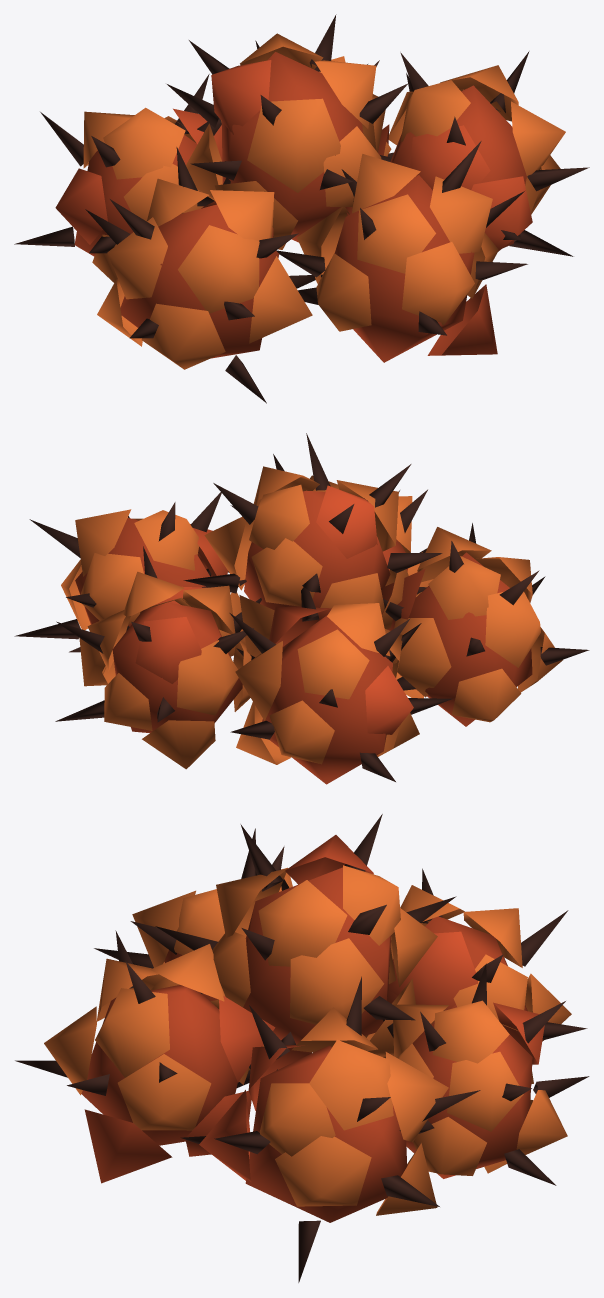
File: tumpukan_tbs.glb
The picture shows the model from 3 angles, top to bottom: view 1: azimuth 30°, elevation 25°; view 2: azimuth 150°, elevation 25°; view 3: azimuth 270°, elevation 25°; orthographic projection. The views are drawn at different scales.
Visible parts, largest first — view 1: tumpukan_tbs_mesh; view 2: tumpukan_tbs_mesh; view 3: tumpukan_tbs_mesh.
Boxes of the visible parts, box(x1,y1,x2,y2) form: tumpukan_tbs_mesh: box(14, 14, 589, 403); tumpukan_tbs_mesh: box(14, 433, 589, 784); tumpukan_tbs_mesh: box(15, 814, 589, 1282).
Bounding box in the file's own units: 1.47 × 0.7629 × 1.37.
